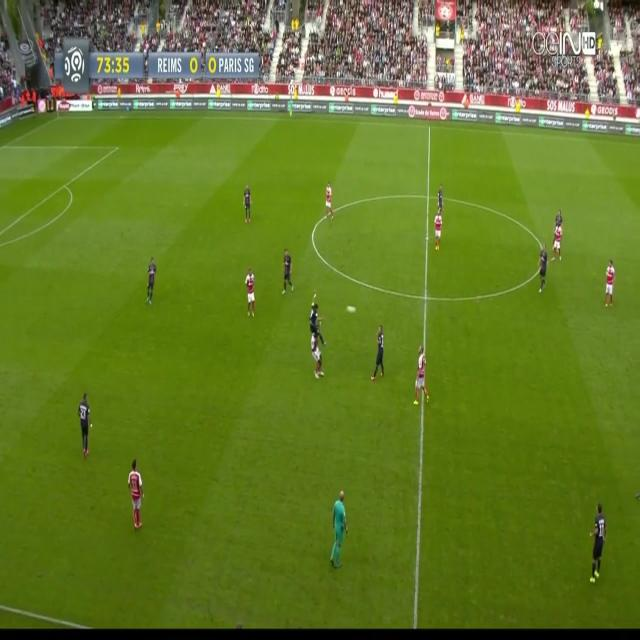Ball: (345, 302, 359, 318)
Player: (586, 502, 609, 589), (125, 458, 146, 534), (411, 344, 431, 412), (367, 324, 388, 386), (77, 391, 95, 462), (309, 330, 326, 386), (535, 240, 549, 297), (280, 244, 294, 299), (144, 255, 158, 308), (244, 267, 257, 320), (604, 263, 616, 316), (310, 303, 326, 341), (323, 180, 336, 225), (242, 182, 254, 226), (433, 209, 443, 252), (553, 215, 562, 262), (435, 184, 445, 212)
Referee: (328, 489, 352, 570)
